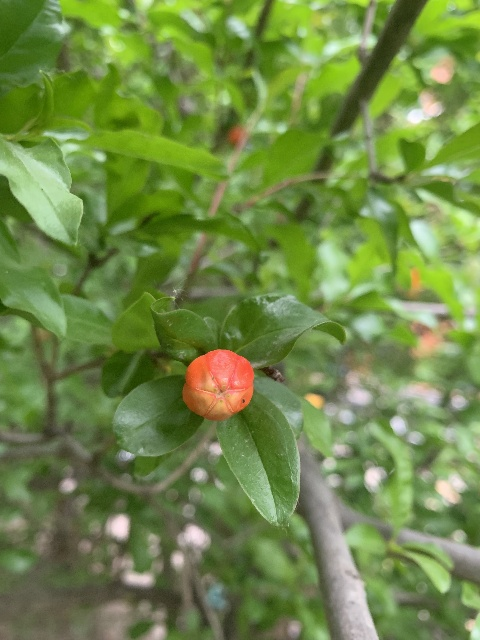bud: (183, 349, 254, 421)
